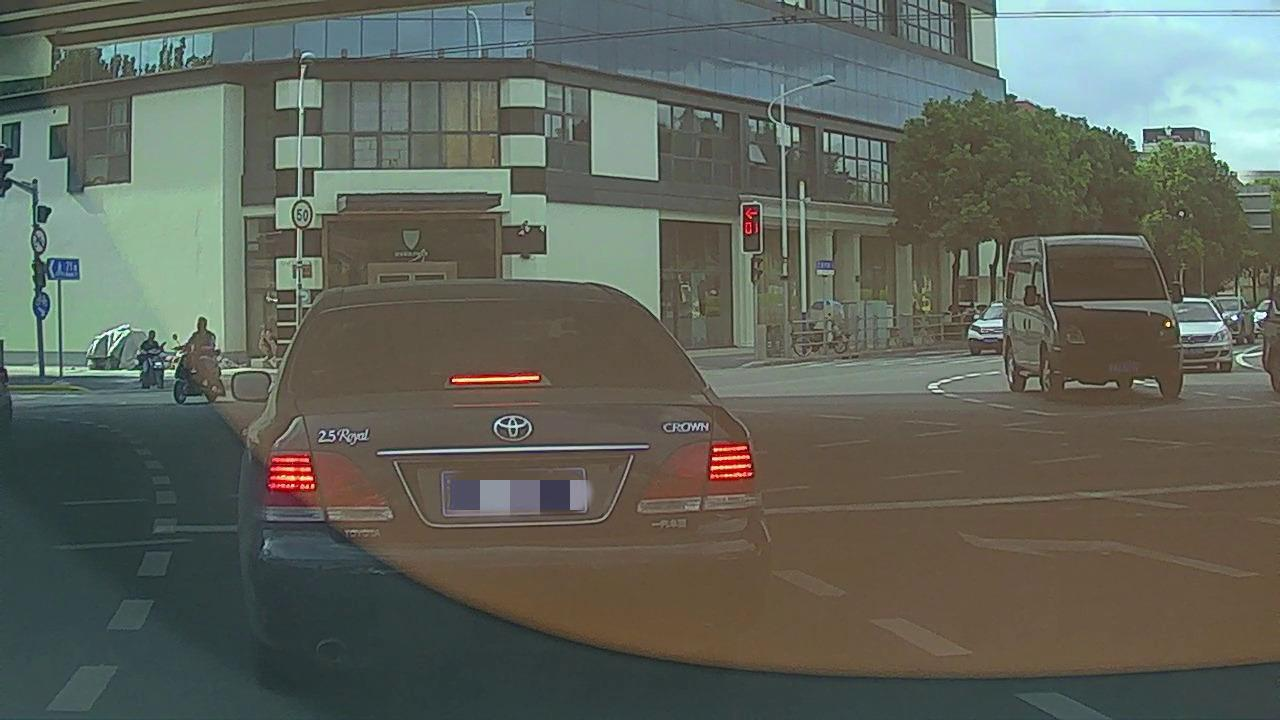traffic_light: (742, 206, 762, 252)
